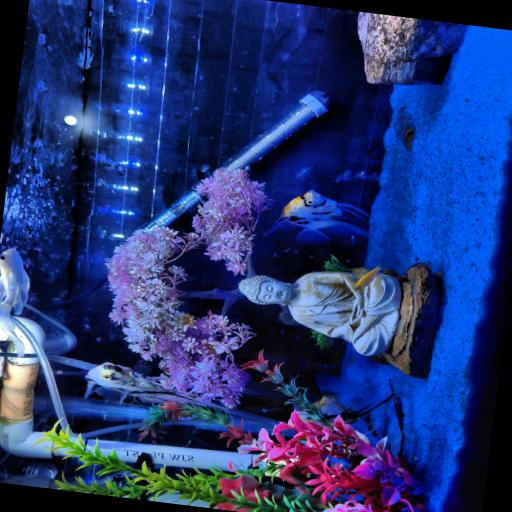Fish: (85, 361, 223, 409), (266, 191, 369, 243), (298, 374, 394, 422), (0, 248, 29, 354), (313, 374, 354, 419), (354, 264, 381, 291)
